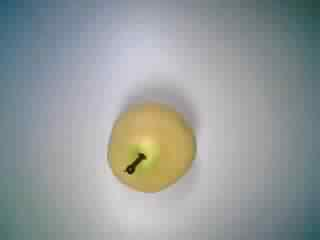pear: (99, 100, 201, 201)
